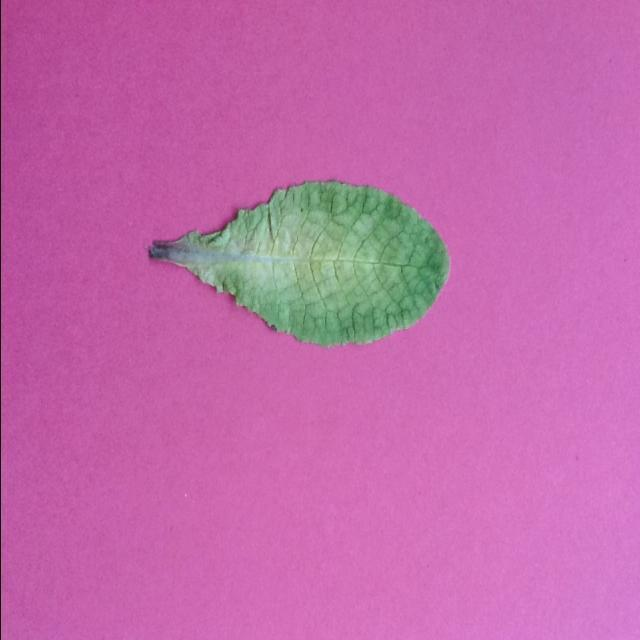foliage: (150, 181, 450, 347)
